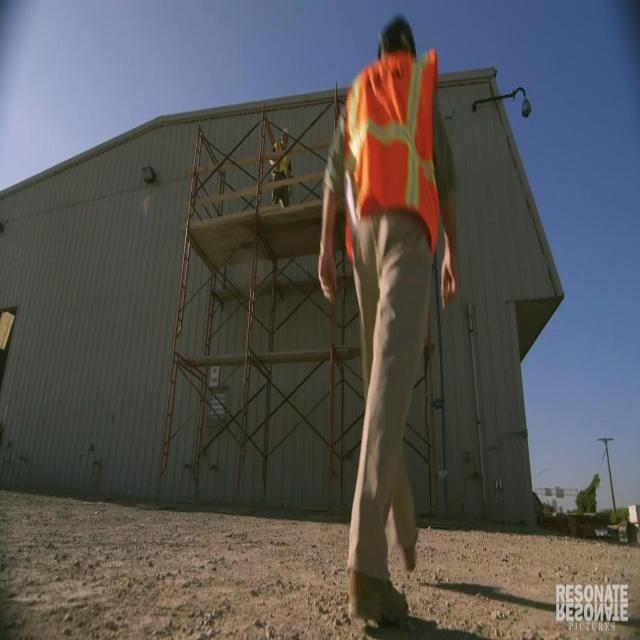Vest: (340, 48, 446, 260), (273, 141, 292, 177)
